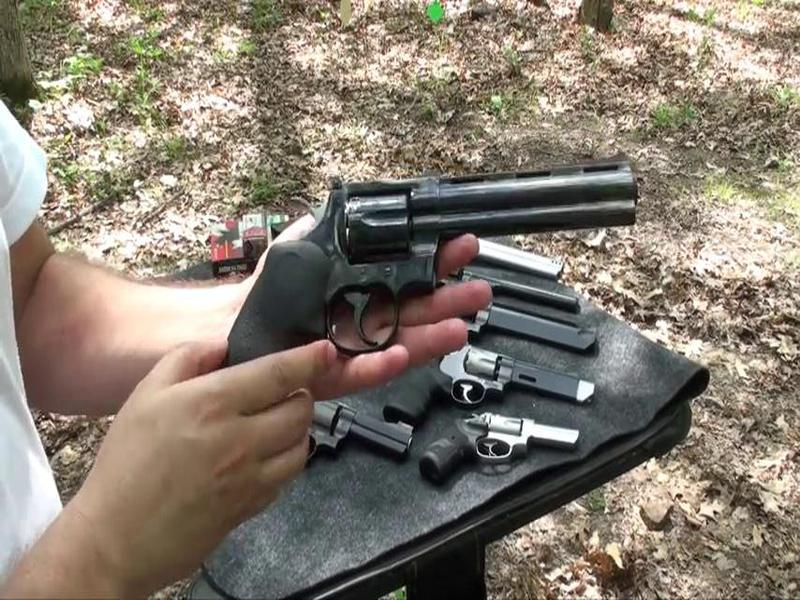Revolver: (228, 159, 656, 364)
